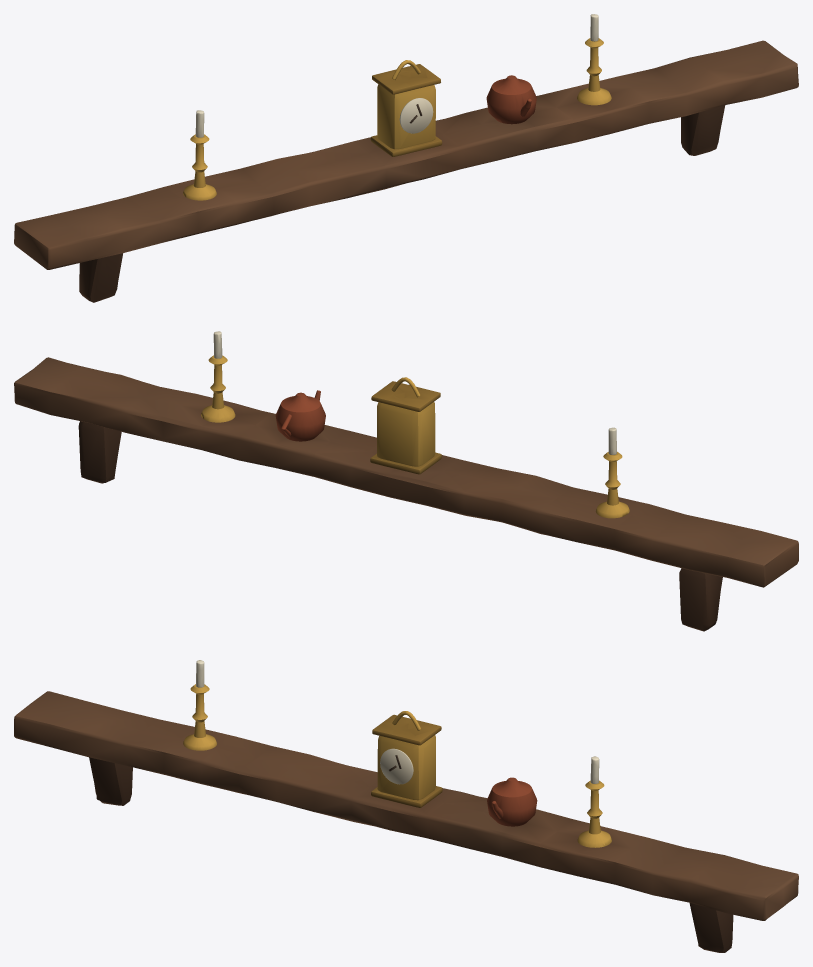
The model's file is ember_mantel_lod1.glb.
The picture shows the model from 3 angles, top to bottom: view 1: azimuth 30°, elevation 25°; view 2: azimuth 150°, elevation 25°; view 3: azimuth 330°, elevation 25°; orthographic projection.
Visible parts, largest first — view 1: ember_mantel.001; view 2: ember_mantel.001; view 3: ember_mantel.001.
Part boxes in pixels (bbox=[...]): ember_mantel.001: bbox=[14, 14, 798, 302]; ember_mantel.001: bbox=[14, 331, 798, 631]; ember_mantel.001: bbox=[14, 660, 798, 952].
Size of the model in its own units: 200 by 43.4 by 17.25.
